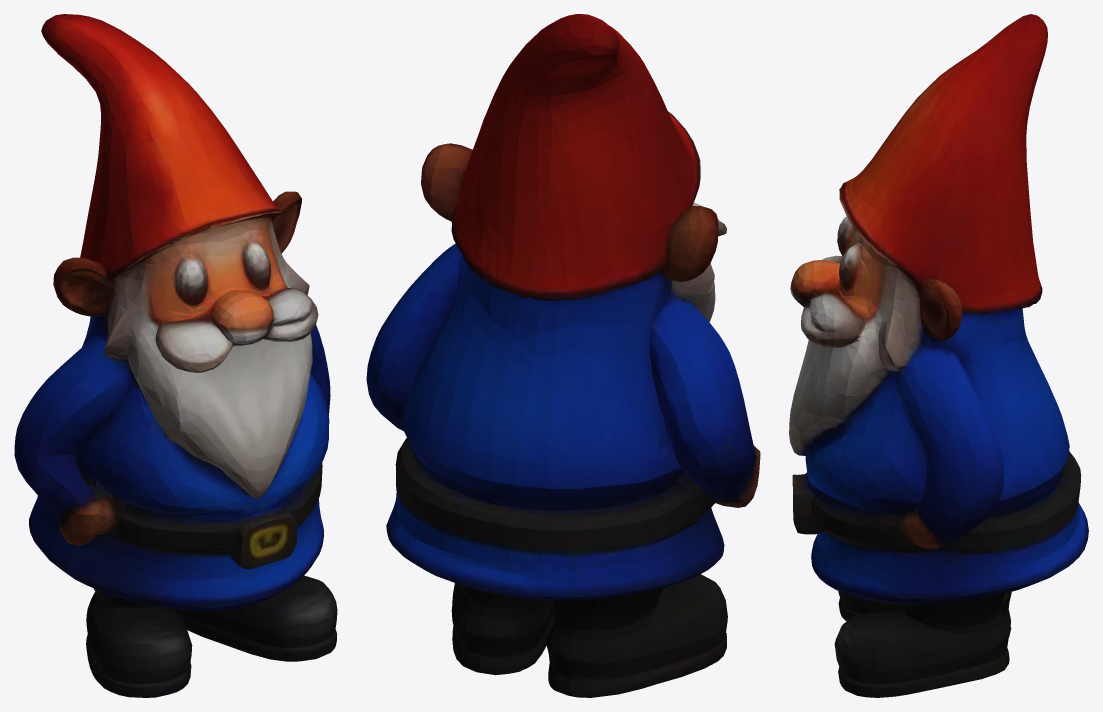
Rendered from gnome1.glb.
3 views of the same model, side by side, from view 1: azimuth 30°, elevation 25°; view 2: azimuth 150°, elevation 25°; view 3: azimuth 270°, elevation 25° (orthographic). The views are drawn at different scales.
Parts seen in each view (by area): view 1: world; view 2: world; view 3: world.
Boxes of the visible parts, <box> form: world: <box>14,14,337,697</box>; world: <box>366,14,760,697</box>; world: <box>789,14,1088,697</box>.
Bounding box in the file's own units: 0.5439 × 0.9997 × 0.4593.
Materials: 1 (1 with a texture image).
